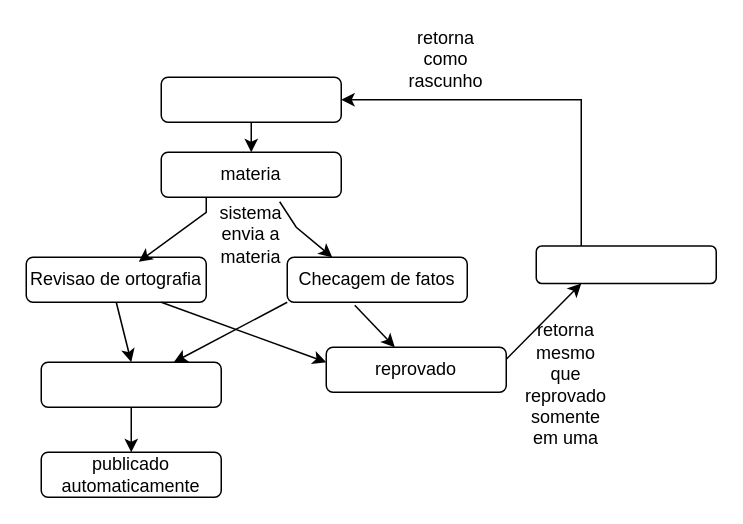
The diagram is 743 pixels wide and 524 high, and some of its shapes have lost their labels. The shapes that lost their labels are listed below. From the top down, each one's box as (x1, y1, x2, y2) in pixels, then its label:
(160, 76, 341, 122): jornalista
(535, 244, 716, 284): rascunho
(40, 361, 221, 407): aprovado
